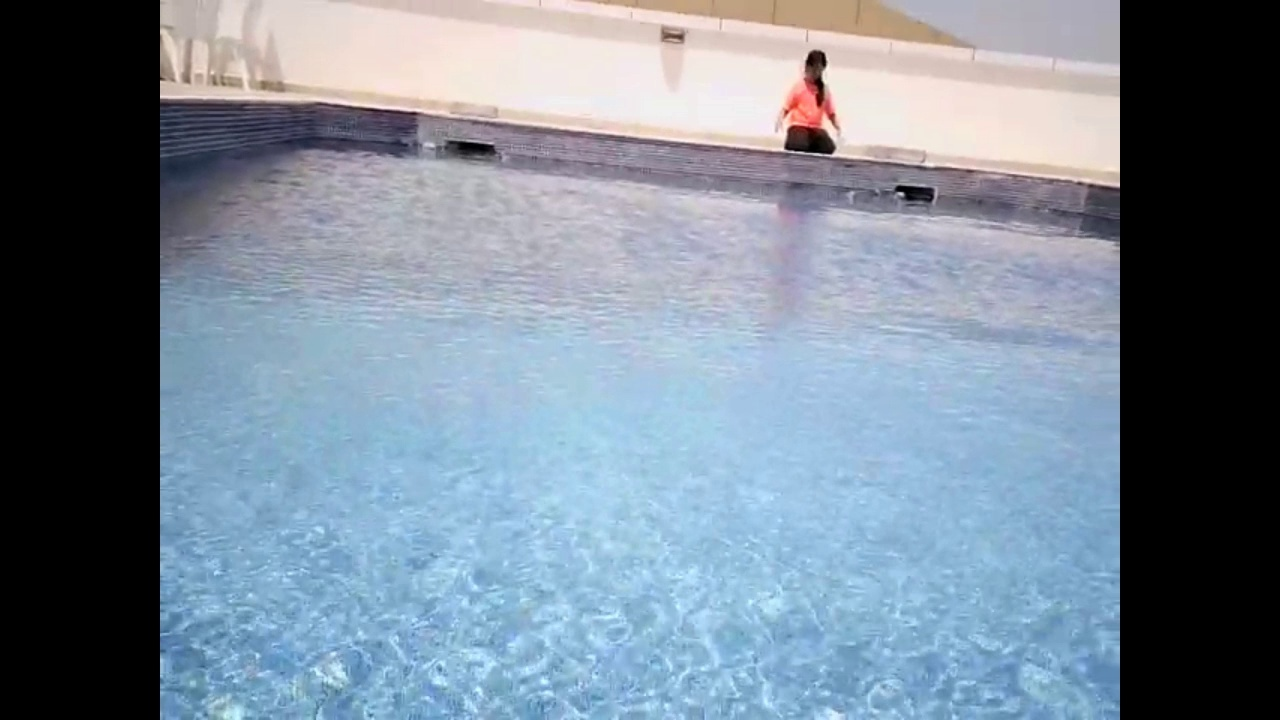debris: (886, 187, 905, 202), (843, 184, 858, 202), (866, 184, 881, 199), (494, 146, 507, 162), (421, 140, 436, 151)
